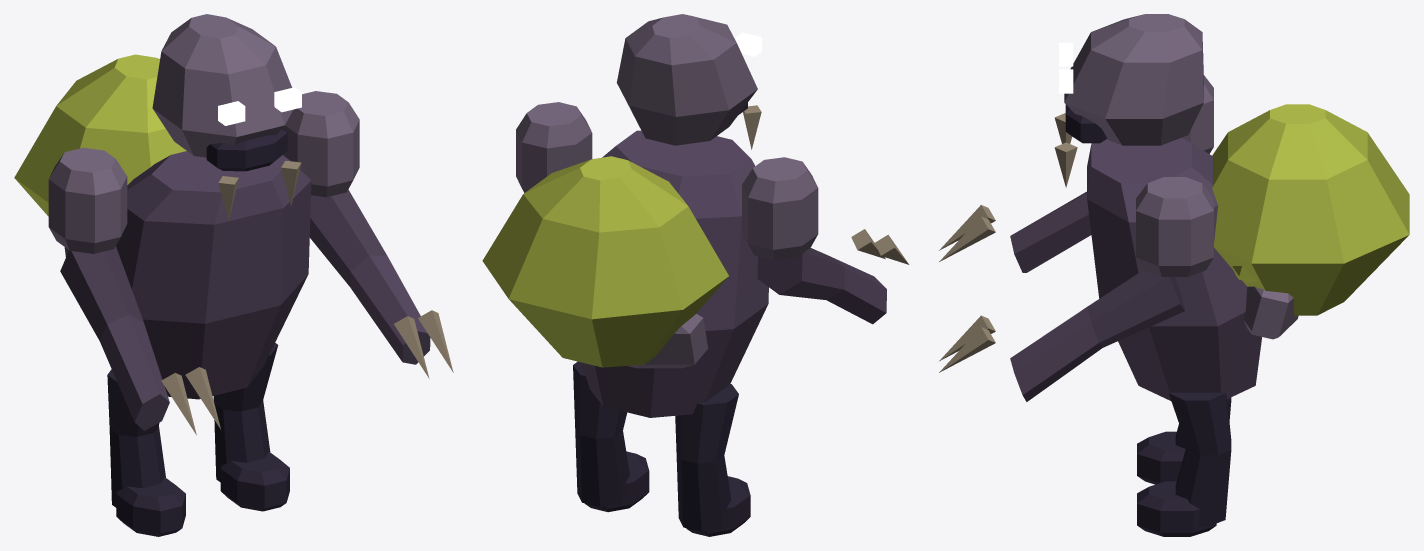
File: enemy_spitter.glb
3 renders of one model, left to right at view 1: azimuth 30°, elevation 25°; view 2: azimuth 150°, elevation 25°; view 3: azimuth 270°, elevation 25°, orthographic. The views are drawn at different scales.
Visible parts, largest first — view 1: body, arms, eyes; view 2: body, arms; view 3: body, arms, eyes.
Part boxes in pixels (x1=…): body: x1=14, y1=14, x2=311, y2=536; arms: x1=48, y1=91, x2=453, y2=435; eyes: x1=218, y1=87, x2=301, y2=125; body: x1=482, y1=14, x2=768, y2=536; arms: x1=516, y1=102, x2=909, y2=324; body: x1=1054, y1=14, x2=1409, y2=536; arms: x1=939, y1=75, x2=1213, y2=401; eyes: x1=1059, y1=42, x2=1073, y2=93.
Bounding box in the file's own units: 0.6605 × 1.05 × 0.9352.
